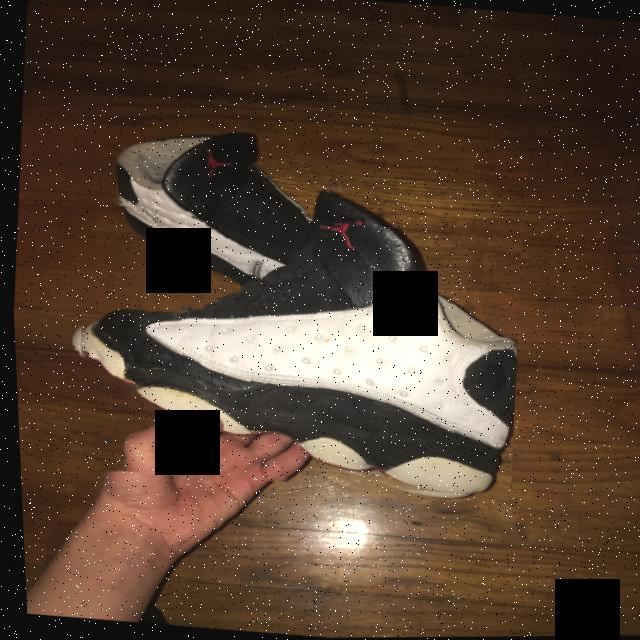shoe: (53, 200, 529, 506), (103, 122, 316, 283)
